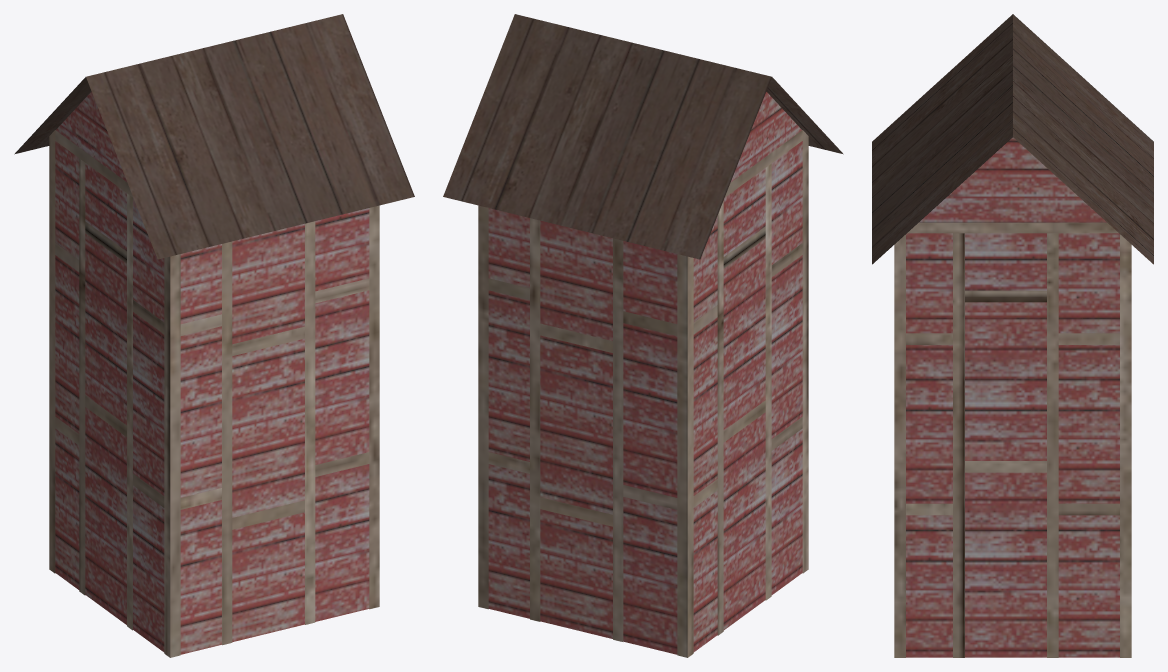
Rendered from building002.fbx.
3 renders of one model, left to right at view 1: azimuth 30°, elevation 25°; view 2: azimuth 150°, elevation 25°; view 3: azimuth 270°, elevation 25°, orthographic.
Visible parts, largest first — view 1: Cube.001; view 2: Cube.001; view 3: Cube.001.
Boxes of the visible parts, <box> form: Cube.001: <box>14,14,414,657</box>; Cube.001: <box>443,14,843,657</box>; Cube.001: <box>872,14,1153,657</box>.
Bounding box in the file's own units: 248 × 500 × 240.
